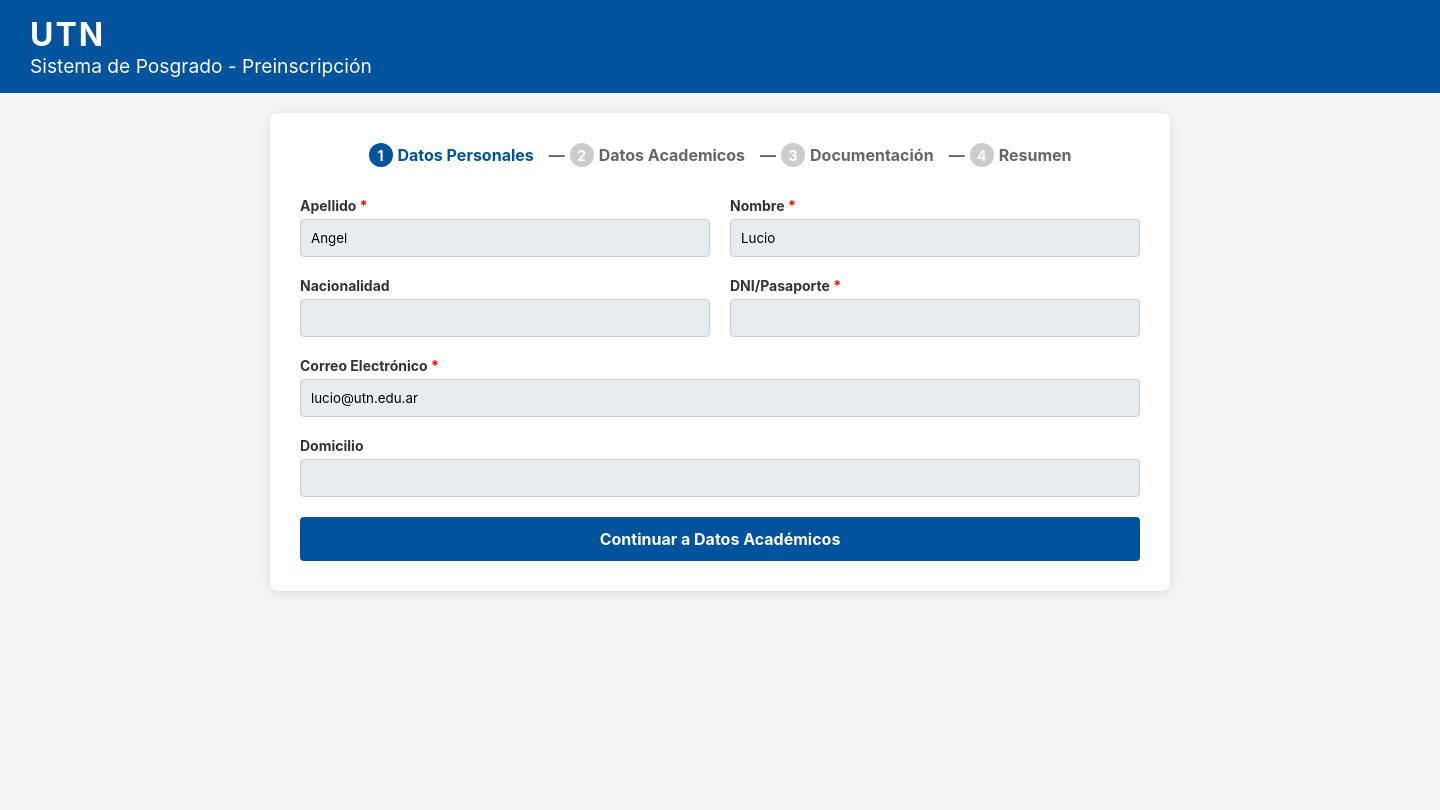
Preinscripcion Component › actualiza datos corregidos y elimina documentos previos al reenviar legajo OBSERVADO
Later steps or results of the test are not shown.
In the field named "dni" below "DNI/Pasaporte": (935, 318) [730,299,1140,337], type "40999888"
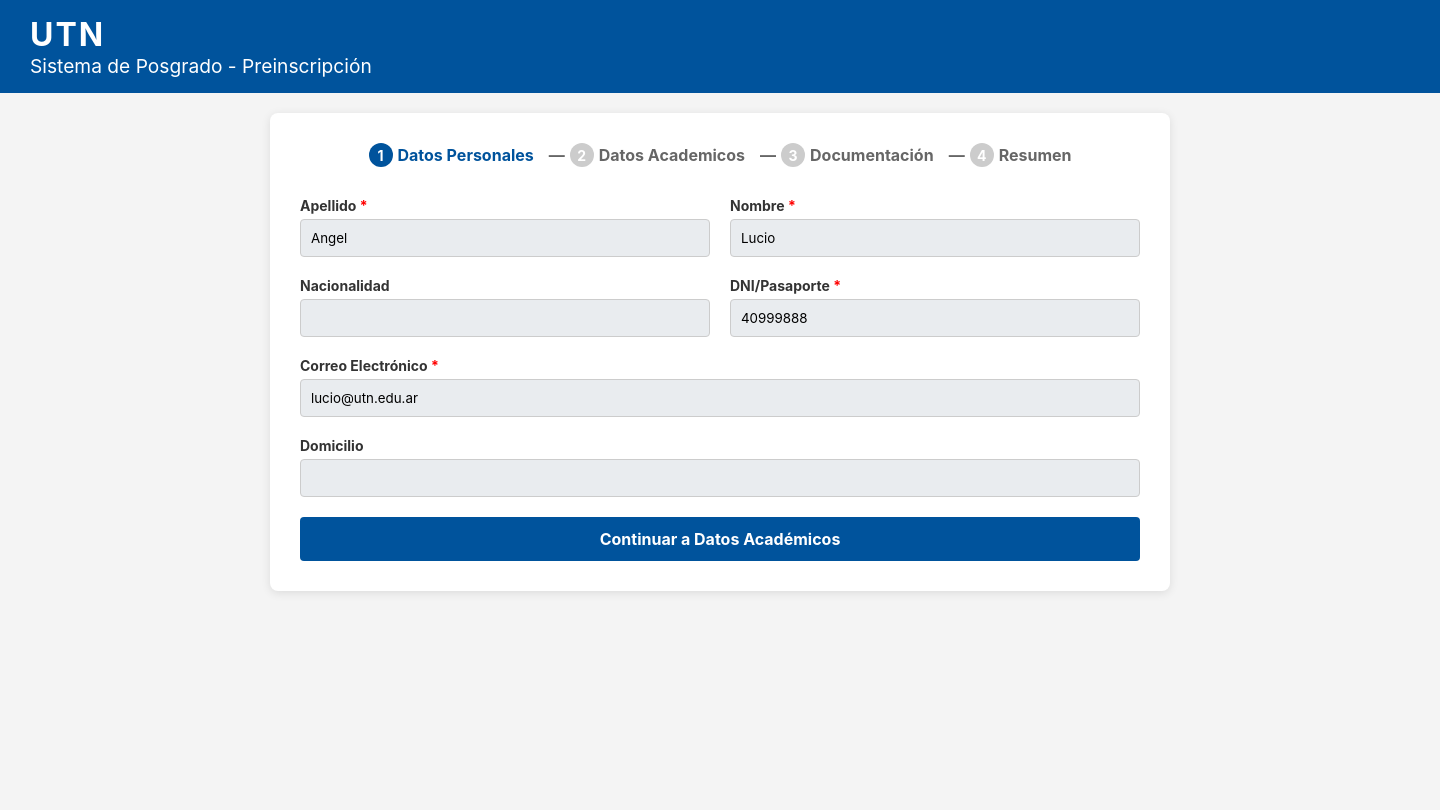
Click the button "Continuar a Datos Académicos": click(720, 539) [300,517,1140,561]
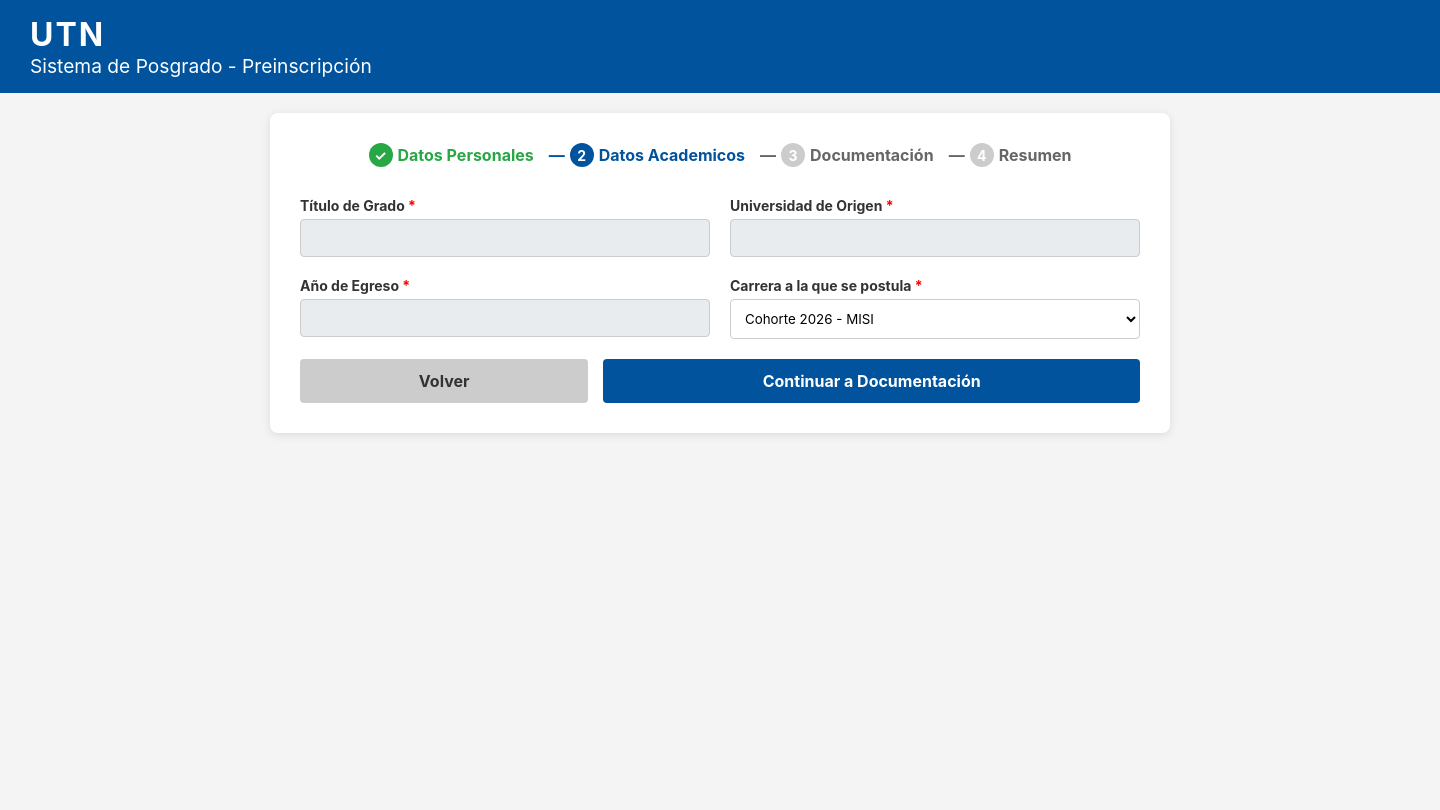
Expected: the field named "titulo" below "Título de Grado" is shown
In the field named "titulo" below "Título de Grado": (505, 238) [300,219,710,257], type "Ingeniero en Sistemas"
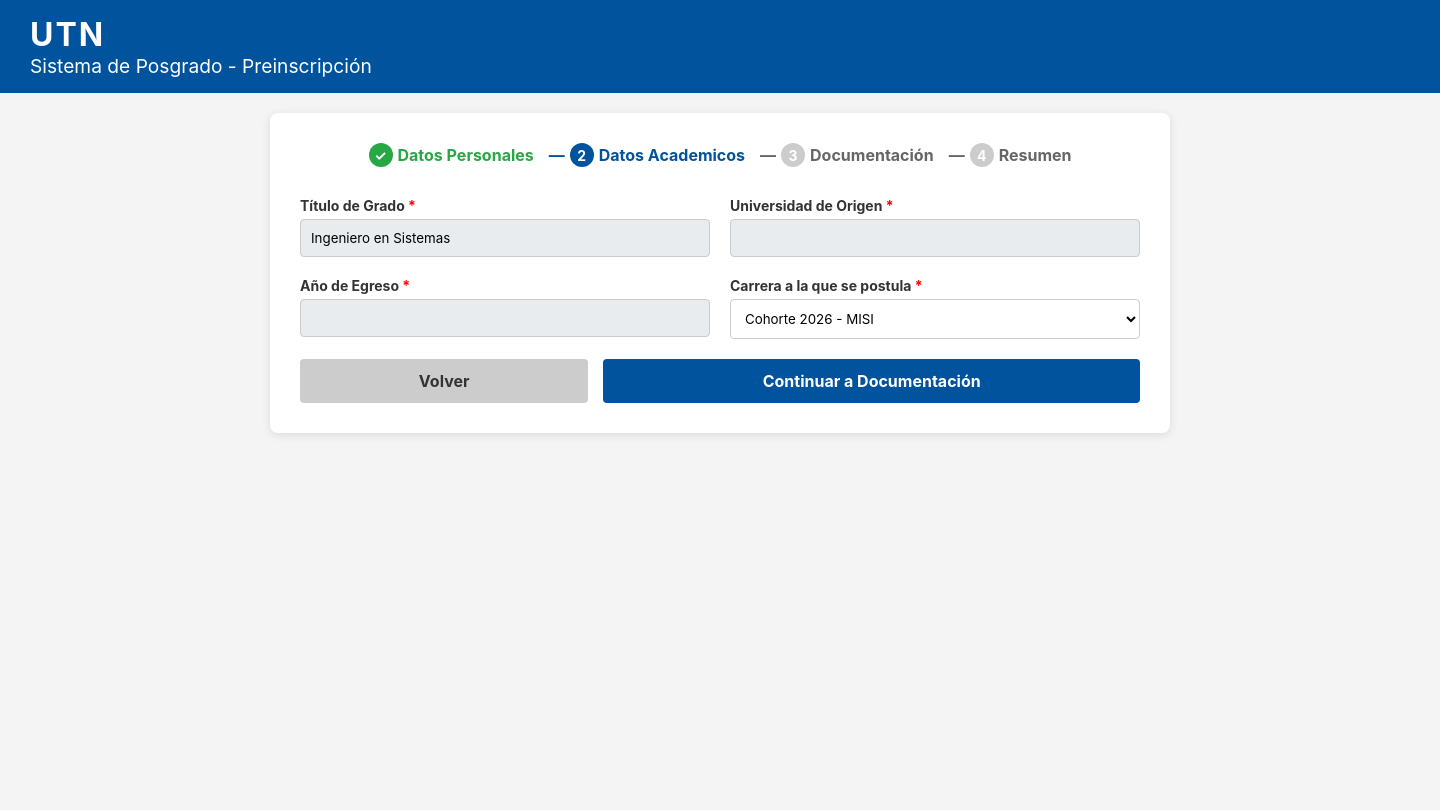
In the field named "universidad" below "Universidad de Origen": (935, 238) [730,219,1140,257], type "UTN FRLP"
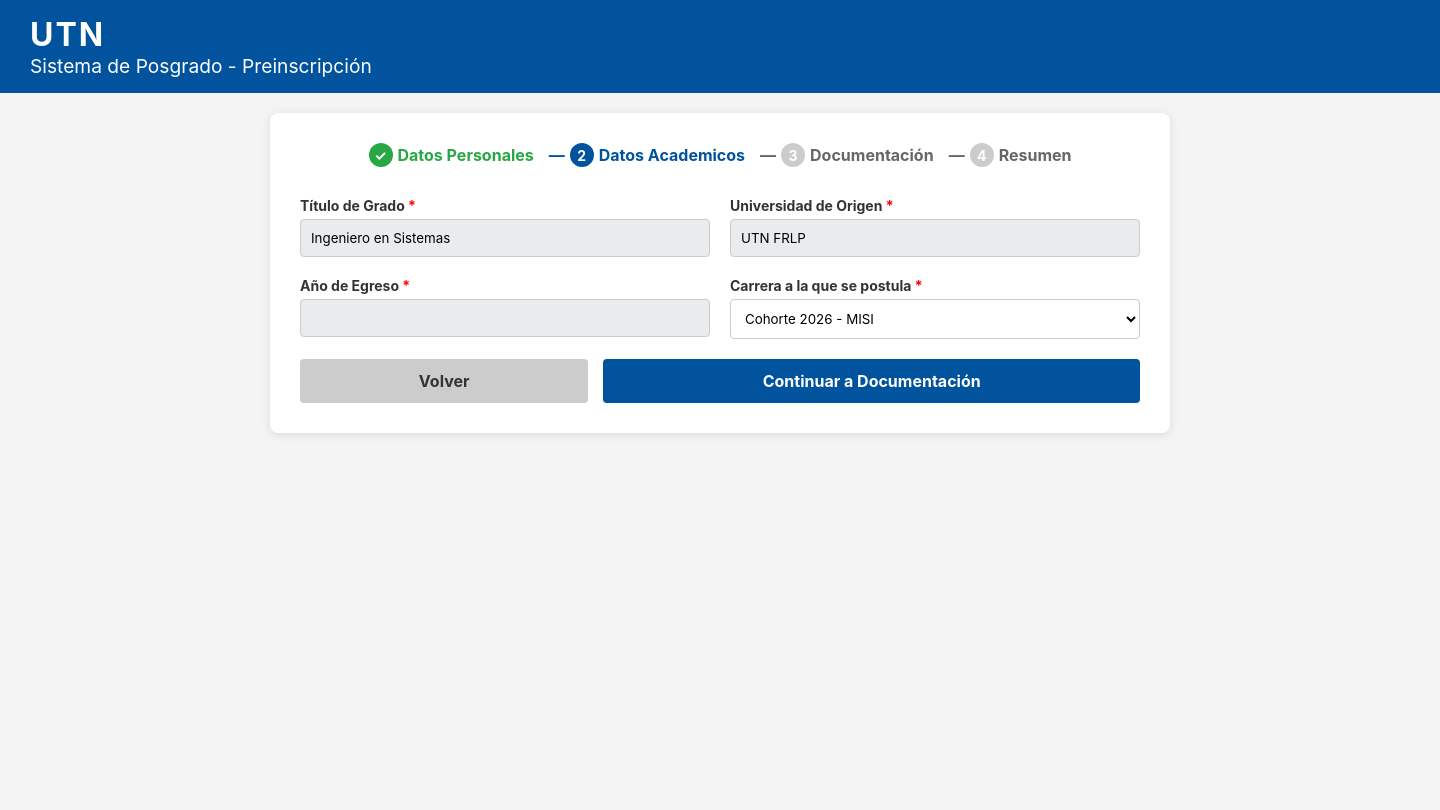
In the number field named "anioEgreso": (505, 318) [300,299,710,337], type "2025"
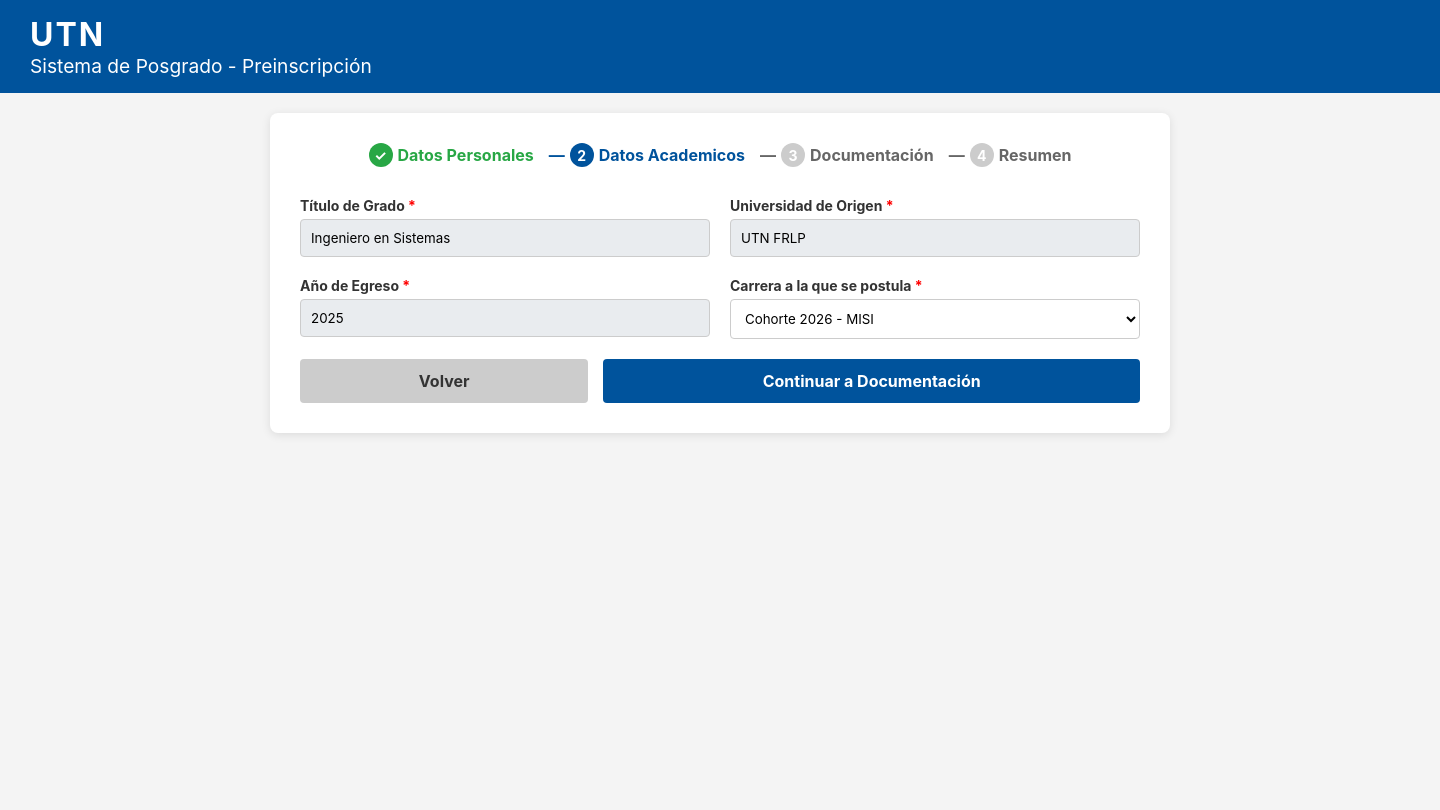
Click the button "Continuar a Documentación": click(872, 381) [603,359,1140,403]
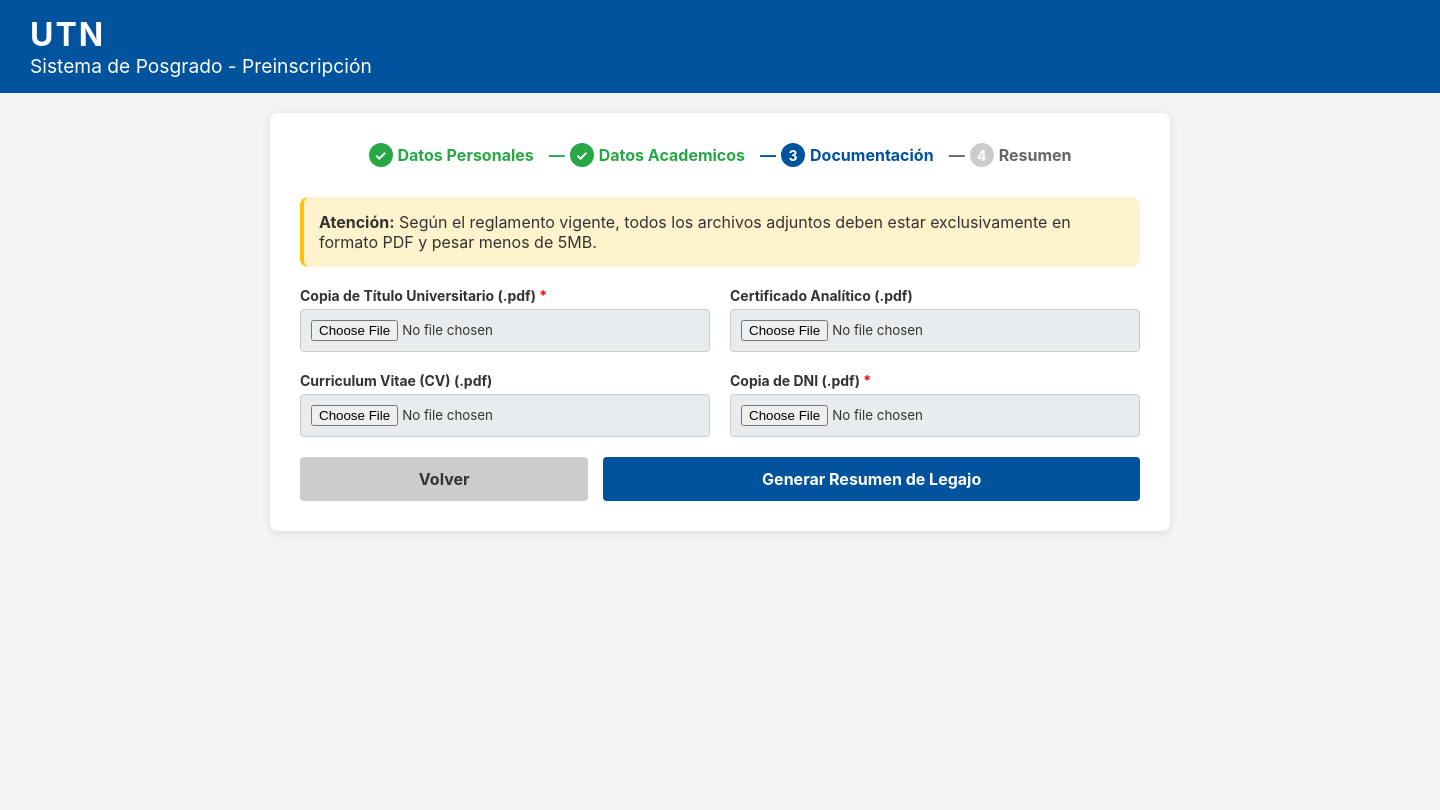
Expected: the button "Generar Resumen de Legajo" is shown, [603,457,1140,501]
